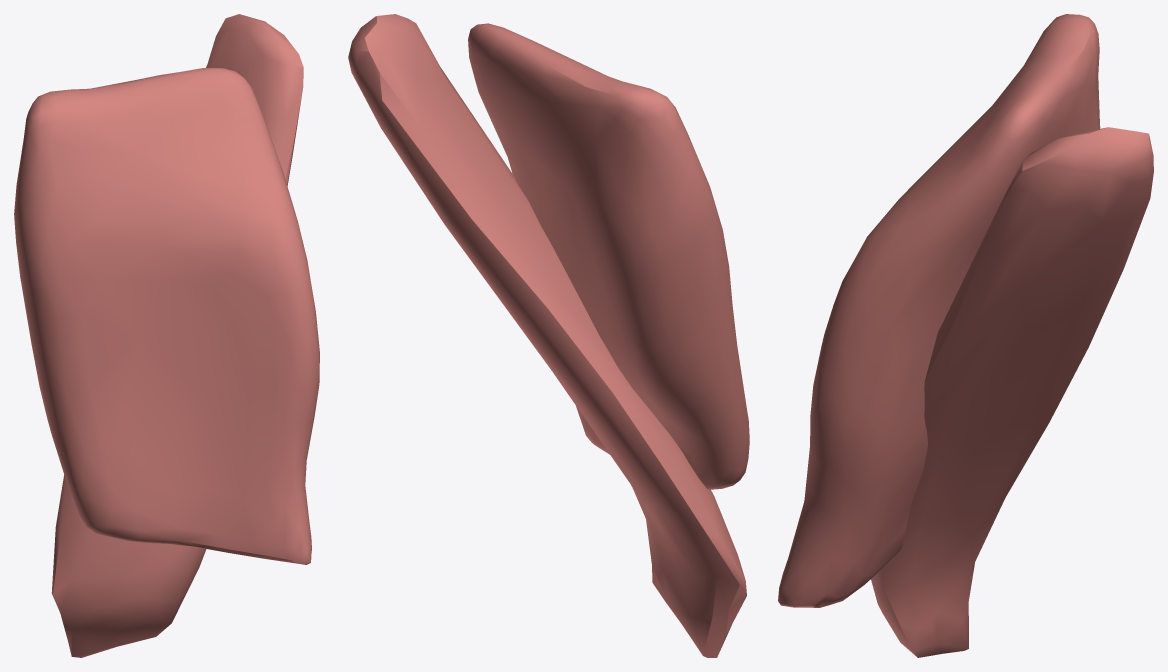
The model's file is fma81588_mm2384m.glb.
The picture shows the model from 3 angles, left to right: view 1: azimuth 30°, elevation 25°; view 2: azimuth 150°, elevation 25°; view 3: azimuth 270°, elevation 25°; orthographic projection. The views are drawn at different scales.
Parts seen in each view (by area): view 1: FMA81588_MM2384M; view 2: FMA81588_MM2384M; view 3: FMA81588_MM2384M.
Boxes of the visible parts, bbox=[...] form: FMA81588_MM2384M: bbox=[14, 14, 319, 657]; FMA81588_MM2384M: bbox=[348, 14, 749, 657]; FMA81588_MM2384M: bbox=[778, 14, 1153, 657].
Size of the model in its own units: 0.016 by 0.029 by 0.015.
